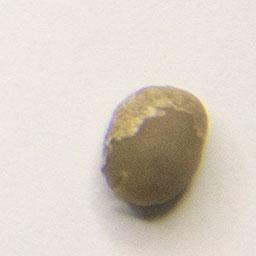peaberry: (97, 81, 212, 212)
